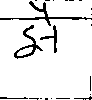ai_matra: (29, 0, 51, 16)
